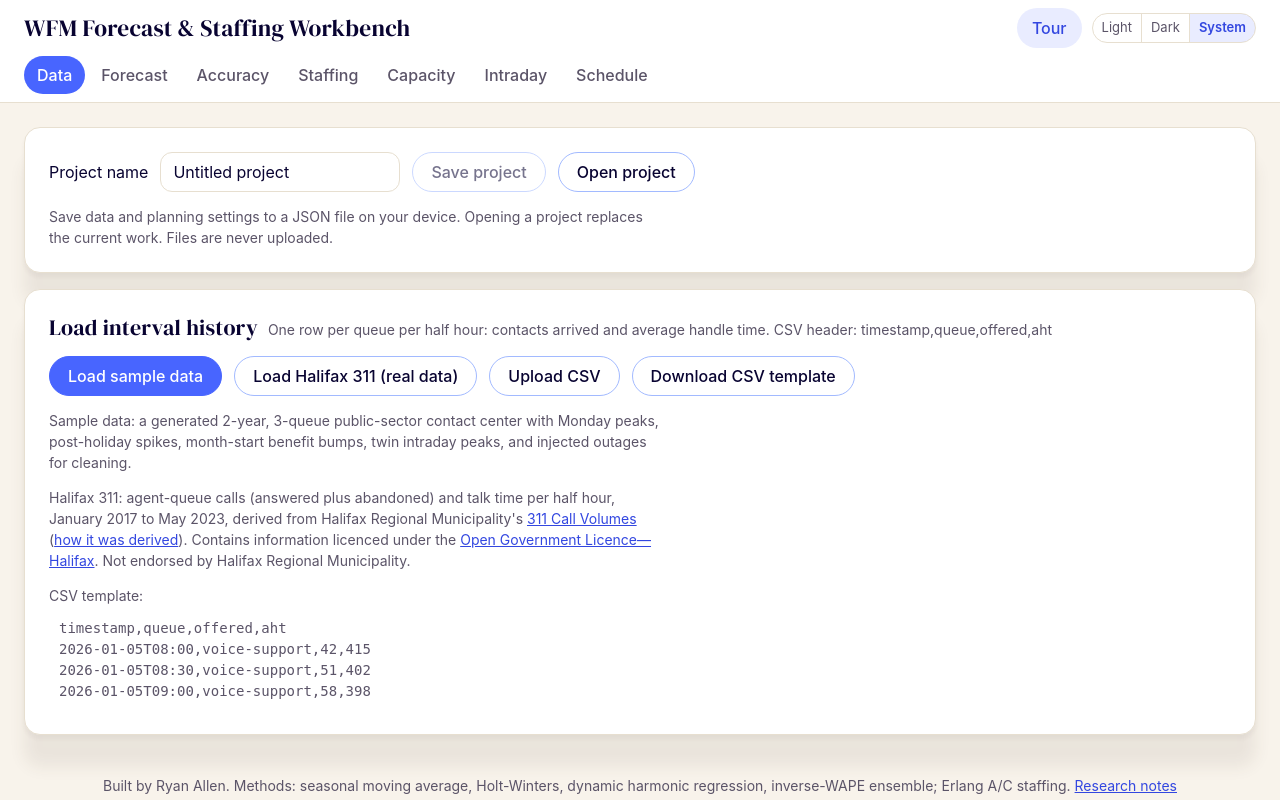
Scenario: loads the bundled Halifax 311 CSV through the CSV parser and shows the credit line
This screenshot has width=1280, height=800.
Expected: the text "Contains information licenced under the" is shown, [178,531,456,548]
Click the button "Load Halifax 311 (real data)": (356, 376) [234,356,477,396]
(page scrolled)
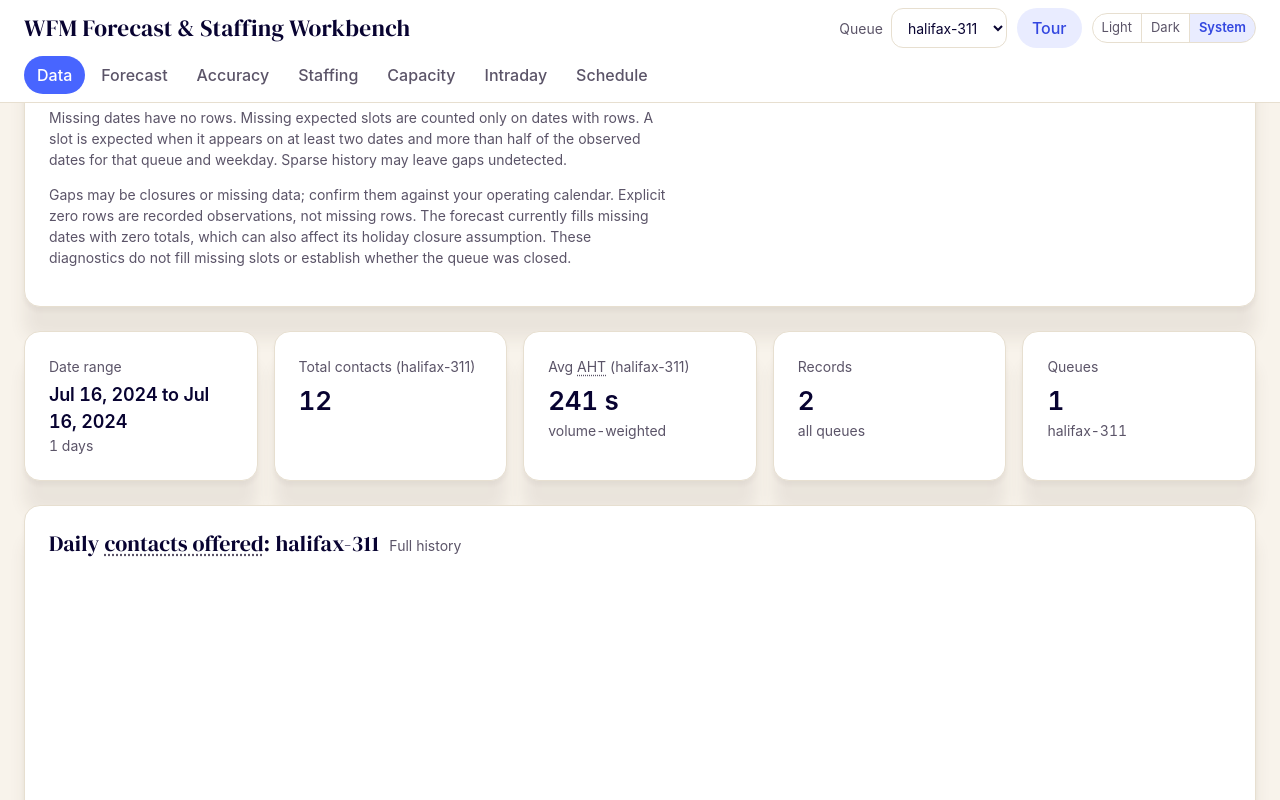
Expected: the text "12" is shown, [299,385,332,416]
